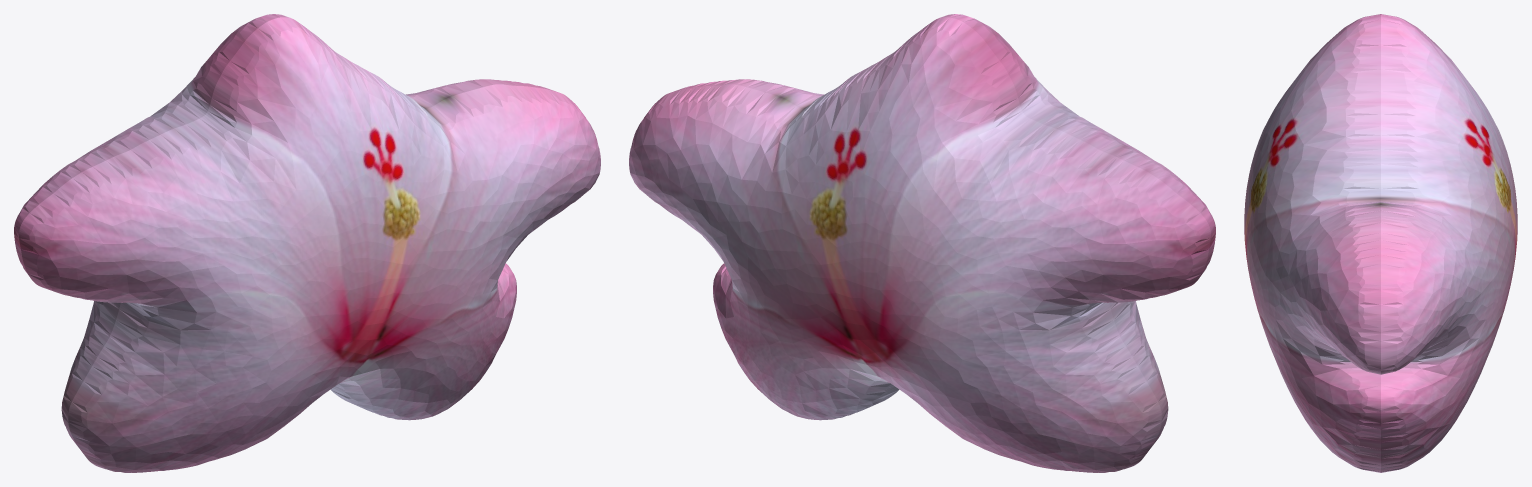
The model's file is 杜鵑B.glb.
3 renders of one model, left to right at view 1: azimuth 30°, elevation 25°; view 2: azimuth 150°, elevation 25°; view 3: azimuth 270°, elevation 25°, orthographic. The views are drawn at different scales.
Bounding box in the file's own units: 0.7024 × 0.5 × 0.3162.
1 material, 1 textured.
